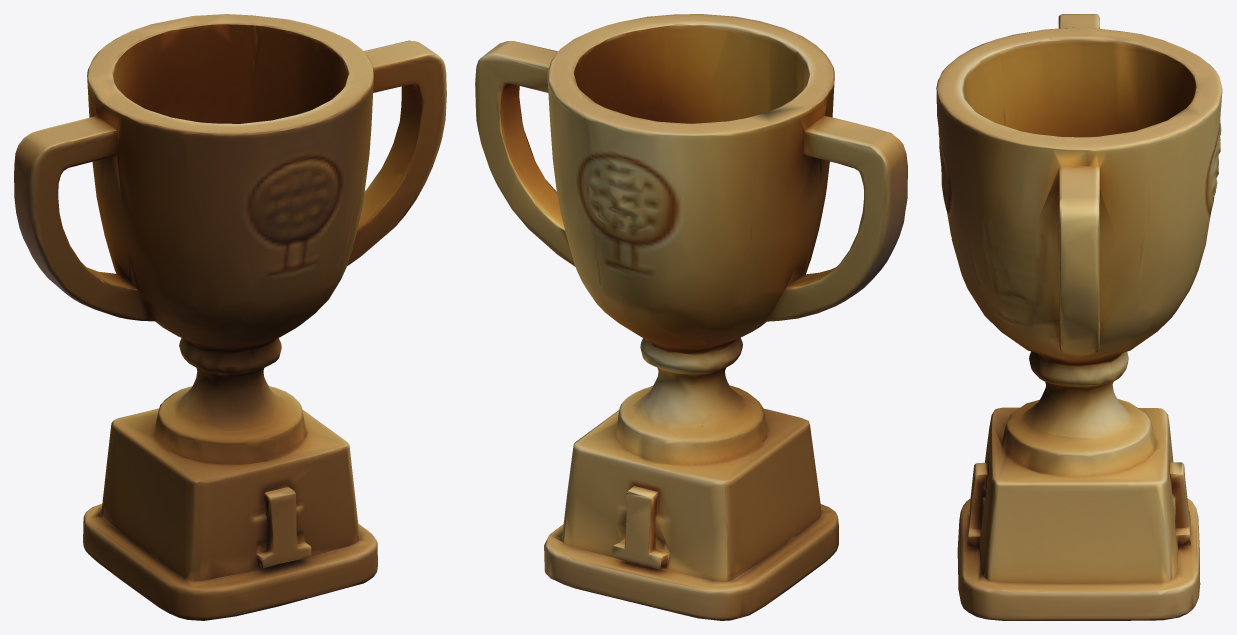
File: trophy.glb
3 views of the same model, side by side, from view 1: azimuth 30°, elevation 25°; view 2: azimuth 150°, elevation 25°; view 3: azimuth 270°, elevation 25° (orthographic).
Visible parts, largest first — view 1: geometry_0; view 2: geometry_0; view 3: geometry_0.
Part boxes in pixels (x1=…): geometry_0: x1=14, y1=14, x2=446, y2=620; geometry_0: x1=475, y1=14, x2=907, y2=620; geometry_0: x1=936, y1=14, x2=1222, y2=620.
Bounding box in the file's own units: 0.8828 × 0.9815 × 0.5241.
1 material, 1 textured.
